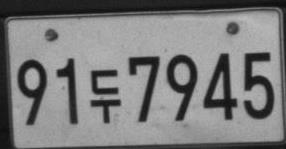1: (54, 57, 85, 125)
4: (203, 52, 238, 121)
5: (242, 51, 275, 120)
7: (128, 55, 160, 123)
9: (165, 53, 198, 121), (16, 57, 48, 125)
두: (89, 68, 122, 124)
